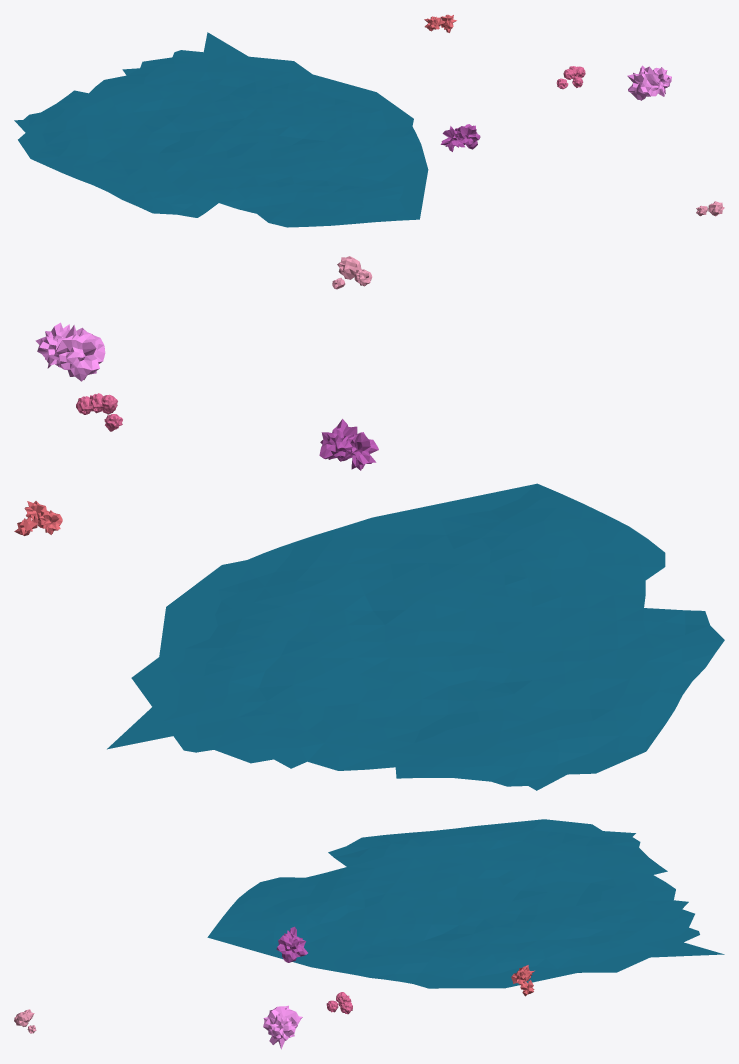
The model's file is environmentWobble.obj.
The picture shows the model from 3 angles, top to bottom: view 1: azimuth 30°, elevation 25°; view 2: azimuth 150°, elevation 25°; view 3: azimuth 270°, elevation 25°; orthographic projection. The views are drawn at different scales.
Parts seen in each view (by area): view 1: Sea_Icosphere.004, Leaf1.001_Icosphere.005, Leaf2.002_Icosphere.001, Leaf1_Icosphere.002; view 2: Sea_Icosphere.004, Leaf1.001_Icosphere.005, Leaf2.002_Icosphere.001, Leaf1_Icosphere.002; view 3: Sea_Icosphere.004, Leaf3.001_Icosphere.006, Leaf2.002_Icosphere.001, Leaf1.001_Icosphere.005.
Boxes of the visible parts, box(x1,y1,x2,y2) form: Sea_Icosphere.004: box(14, 32, 428, 227); Leaf1.001_Icosphere.005: box(627, 65, 658, 100); Leaf2.002_Icosphere.001: box(455, 124, 480, 149); Leaf1_Icosphere.002: box(440, 126, 464, 151); Sea_Icosphere.004: box(107, 483, 724, 790); Leaf1.001_Icosphere.005: box(54, 325, 105, 381); Leaf2.002_Icosphere.001: box(319, 419, 357, 460); Leaf1_Icosphere.002: box(338, 432, 378, 470); Sea_Icosphere.004: box(207, 819, 724, 988); Leaf3.001_Icosphere.006: box(268, 1013, 295, 1049); Leaf2.002_Icosphere.001: box(276, 930, 307, 962); Leaf1.001_Icosphere.005: box(263, 1005, 302, 1034).
Bounding box in the file's own units: 335 × 39.44 × 379.
Materials: 4 (4 with a texture image).
